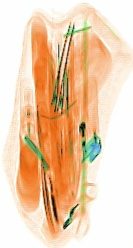lighter: (76, 76, 101, 162)
